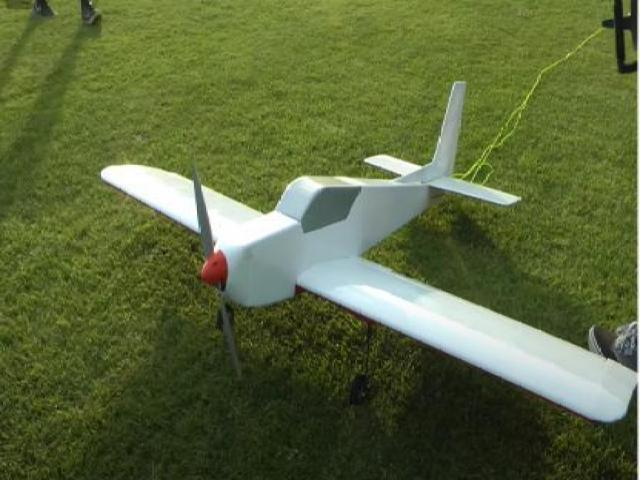uav: (95, 69, 638, 436)
